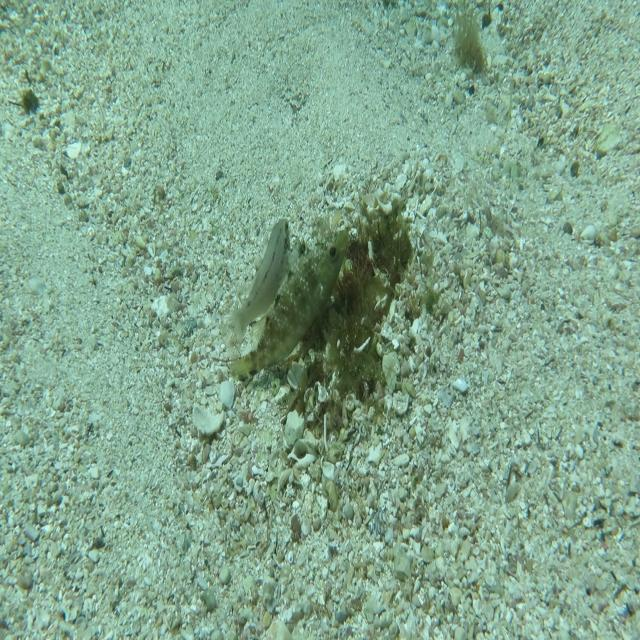FAN: (226, 228, 349, 383)
core_nest: (345, 219, 393, 275)
female: (222, 217, 291, 367)
nest: (267, 161, 427, 427)
